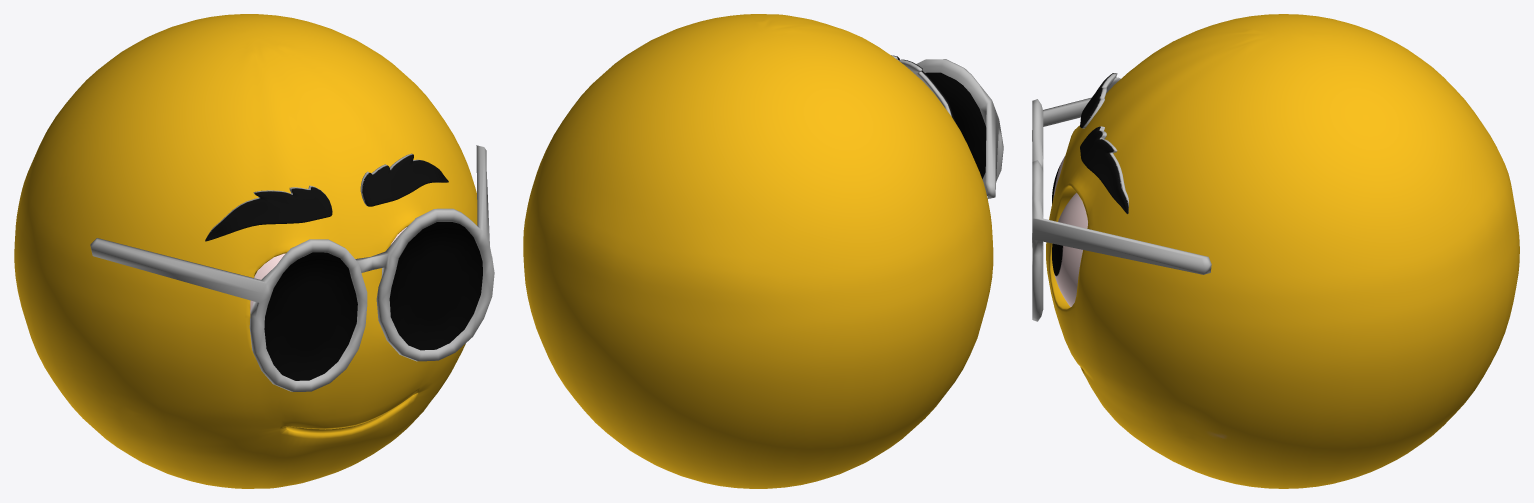
Rendered from cool_000009.obj.
3 renders of one model, left to right at view 1: azimuth 30°, elevation 25°; view 2: azimuth 150°, elevation 25°; view 3: azimuth 270°, elevation 25°, orthographic.
Parts seen in each view (by area): view 1: Smiley_goggle:Smiley_Untitled.001; view 2: Smiley_goggle:Smiley_Untitled.001; view 3: Smiley_goggle:Smiley_Untitled.001.
Part boxes in pixels (left/top/right/bottom): Smiley_goggle:Smiley_Untitled.001: left=14, top=14, right=494, bottom=488; Smiley_goggle:Smiley_Untitled.001: left=523, top=14, right=1003, bottom=488; Smiley_goggle:Smiley_Untitled.001: left=1032, top=14, right=1519, bottom=488.
Size of the model in its own units: 0.0425 by 0.0431 by 0.044.
Materials: 2 (2 with a texture image).
